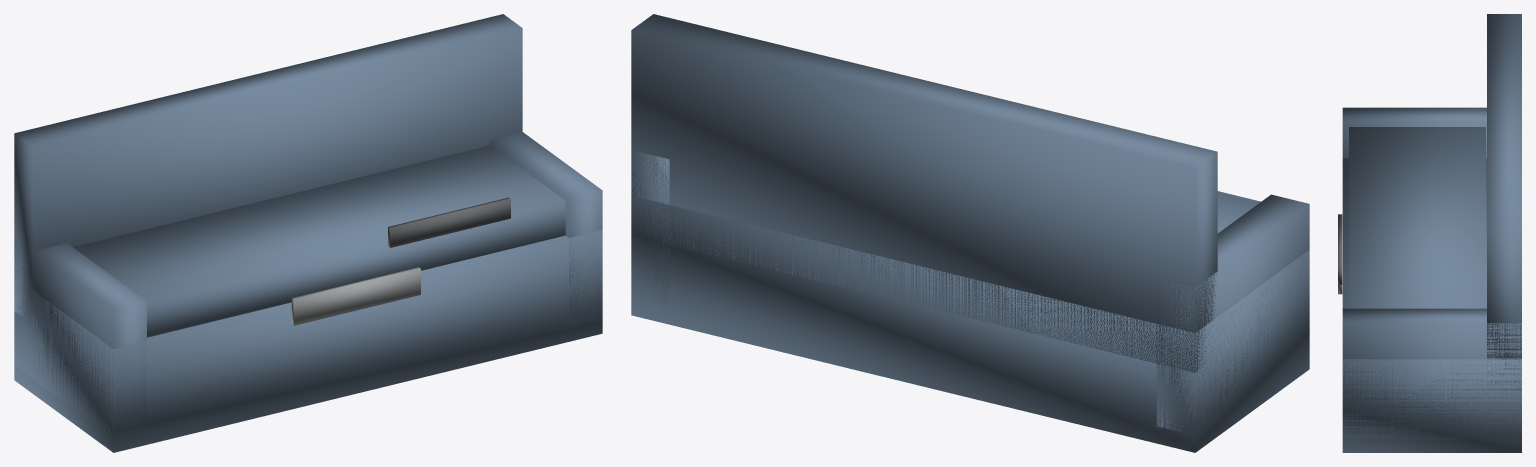
The model's file is sofa__weathered.glb.
3 views of the same model, side by side, from view 1: azimuth 30°, elevation 25°; view 2: azimuth 150°, elevation 25°; view 3: azimuth 270°, elevation 25° (orthographic). The views are drawn at different scales.
Visible parts, largest first — view 1: world; view 2: world; view 3: world.
Boxes of the visible parts, <box> form: world: <box>14,14,602,452</box>; world: <box>631,14,1309,452</box>; world: <box>1338,14,1521,452</box>.
Size of the model in its own units: 2.05 by 1.02 by 0.7391.
